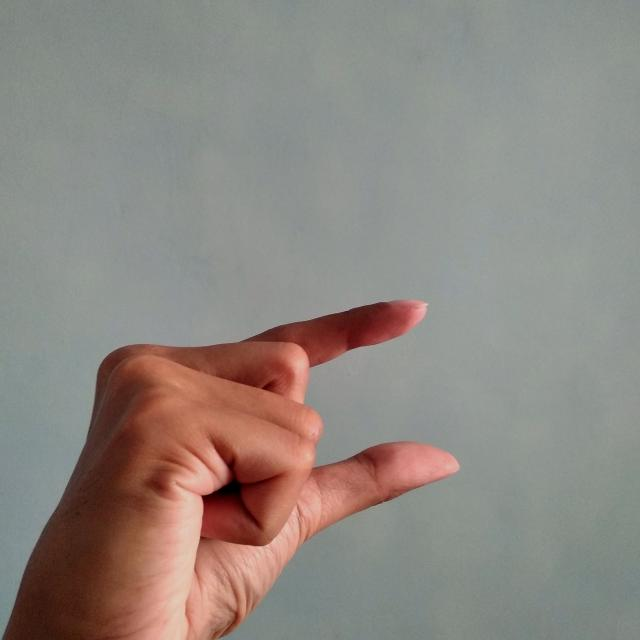G: (0, 295, 465, 640)
